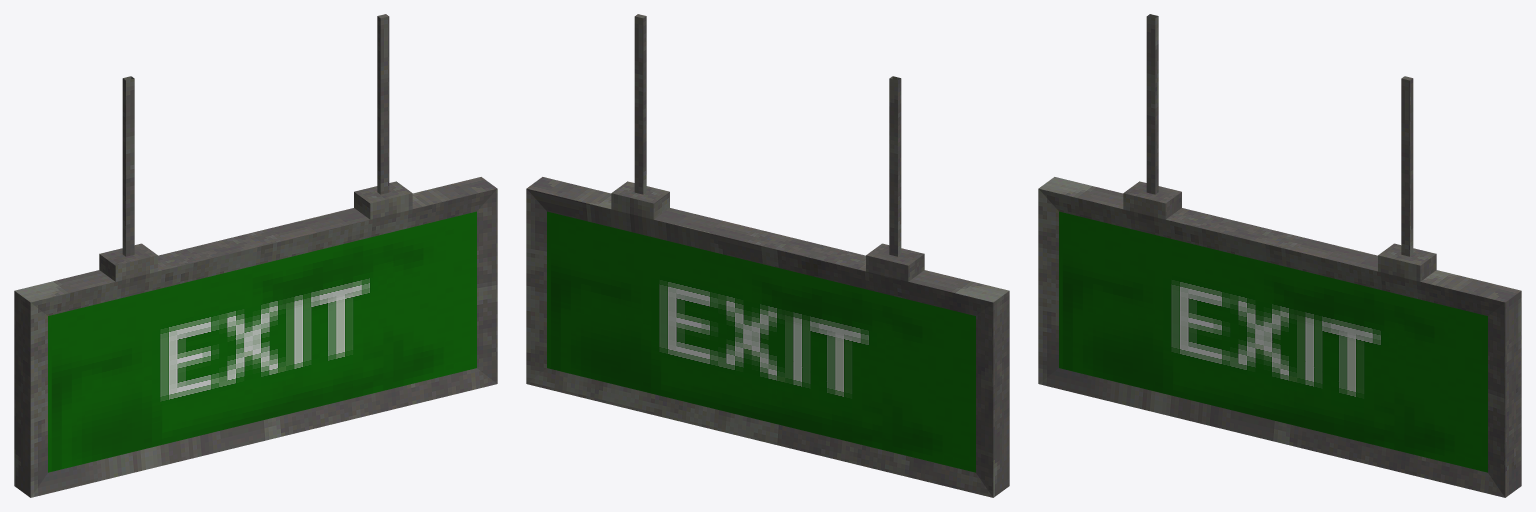
The model's file is SM_ExitSign.fbx.
3 renders of one model, left to right at view 1: azimuth 30°, elevation 25°; view 2: azimuth 150°, elevation 25°; view 3: azimuth 330°, elevation 25°, orthographic.
Parts seen in each view (by area): view 1: SM_ExitSign; view 2: SM_ExitSign; view 3: SM_ExitSign.
Boxes of the visible parts, x1,y1,x2,y2 form: SM_ExitSign: [14, 14, 497, 497]; SM_ExitSign: [526, 14, 1009, 497]; SM_ExitSign: [1038, 14, 1521, 497].
Size of the model in its own units: 50 by 39.69 by 3.
